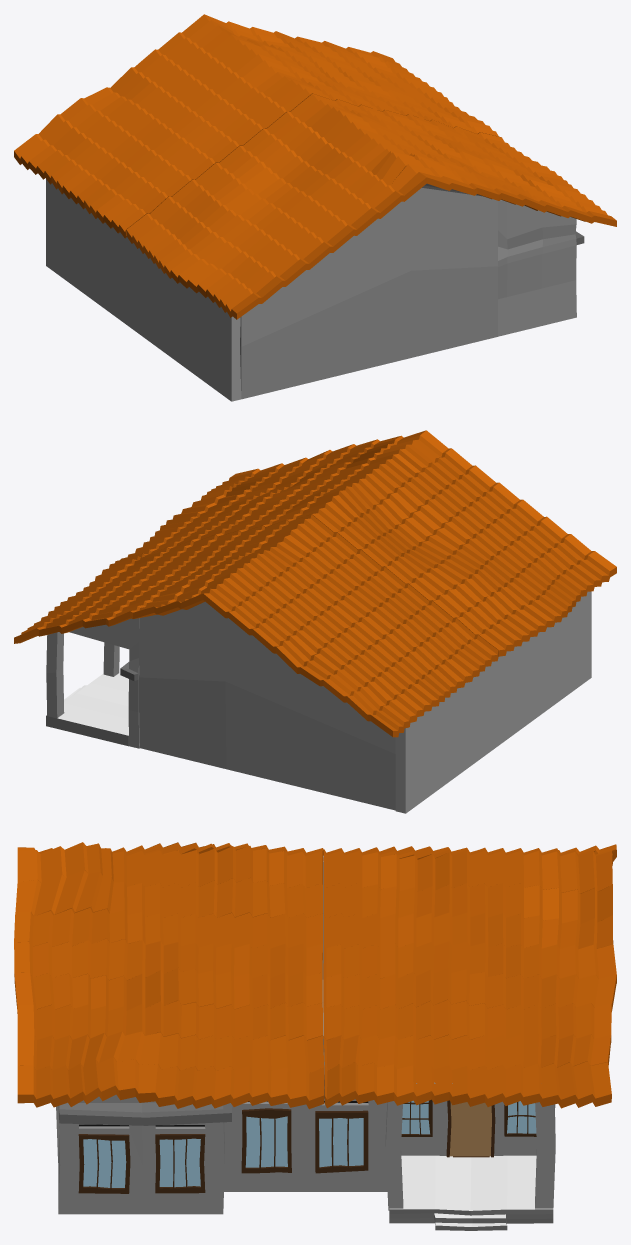
Rendered from rumah 5.fbx.
3 views of the same model, one above another, from view 1: azimuth 30°, elevation 25°; view 2: azimuth 150°, elevation 25°; view 3: azimuth 270°, elevation 25° (orthographic). The views are drawn at different scales.
Parts seen in each view (by area): view 1: Cube.012; view 2: Cube.012; view 3: Cube.012.
Boxes of the visible parts, box(x1,y1,x2,y2) form: Cube.012: box(14, 14, 616, 401); Cube.012: box(14, 430, 616, 813); Cube.012: box(14, 842, 616, 1230).
Bounding box in the file's own units: 1167 × 564 × 1173.
